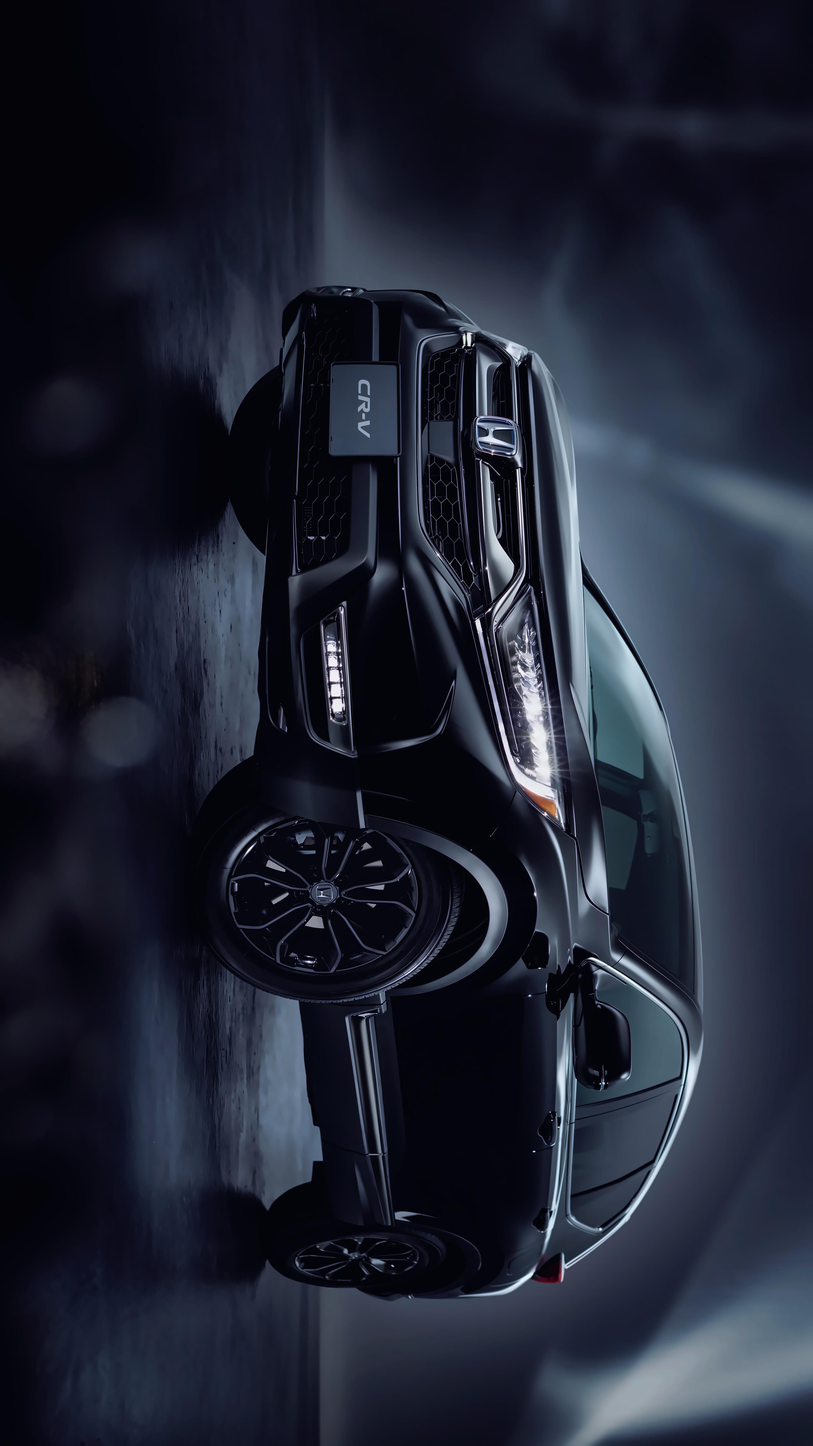Car hood: (508, 342, 600, 798)
Fender - -F-L-: (281, 803, 603, 1029)
Front bumper: (252, 280, 482, 844)
Headlight - -L-: (480, 548, 574, 821)
Headlight - -R-: (497, 328, 546, 434)
Passenger-s door - -F-L-: (362, 952, 680, 1160)
Passenger-s door - -R-L-: (369, 1093, 689, 1268)
Rear light - -L-: (514, 1229, 600, 1309)
Side bumper - -L-: (294, 986, 395, 1255)
Side mirror - -L-: (542, 938, 646, 1119)
